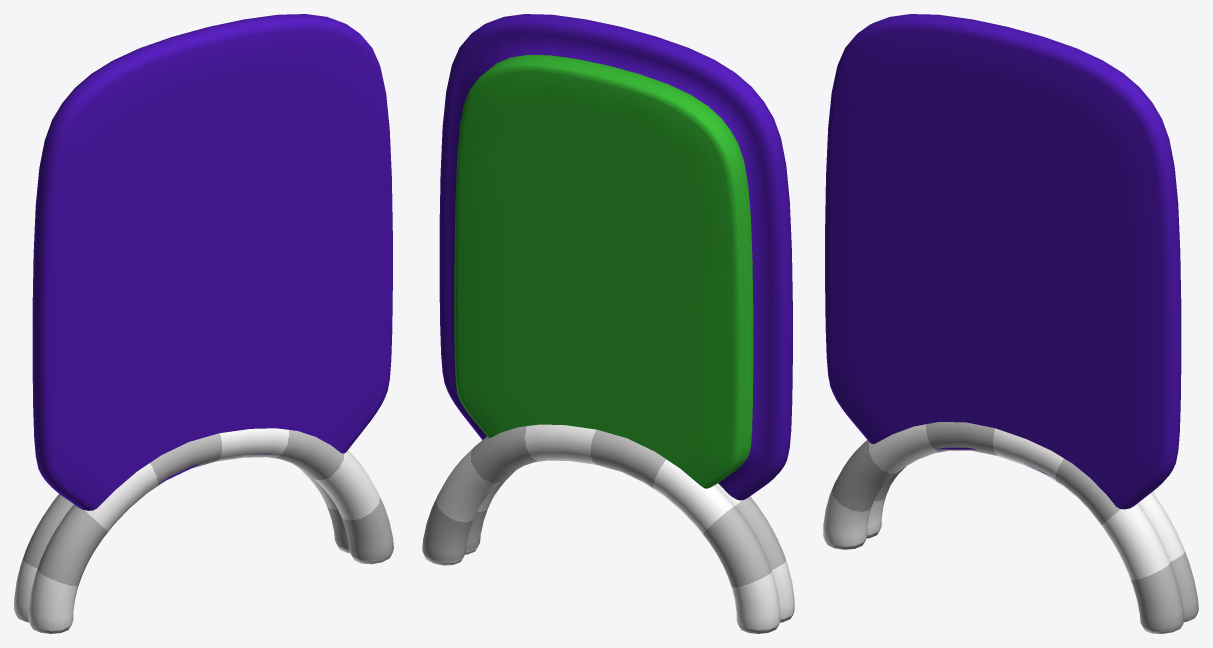
File: Sign2.fbx
3 renders of one model, left to right at view 1: azimuth 30°, elevation 25°; view 2: azimuth 150°, elevation 25°; view 3: azimuth 330°, elevation 25°, orthographic.
Visible parts, largest first — view 1: Sign2; view 2: Sign2; view 3: Sign2.
Part boxes in pixels (x1,y1,x2,y2): Sign2: (14,14,393,633); Sign2: (422,14,794,633); Sign2: (823,14,1198,633).
Bounding box in the file's own units: 73.82 × 13.11 × 112.
3 materials, 1 textured.
